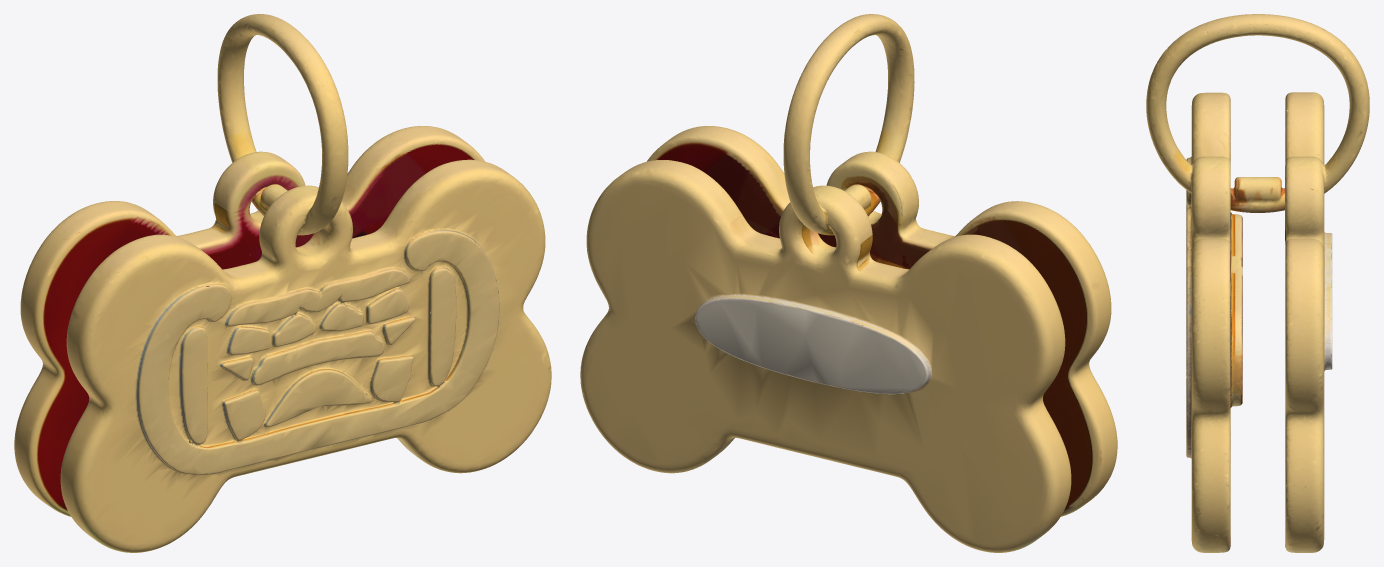
The model's file is raw.glb.
3 views of the same model, side by side, from view 1: azimuth 30°, elevation 25°; view 2: azimuth 150°, elevation 25°; view 3: azimuth 270°, elevation 25° (orthographic). The views are drawn at different scales.
Visible parts, largest first — view 1: Mesh_0; view 2: Mesh_0; view 3: Mesh_0.
Part boxes in pixels (box(x1,y1,x2,y2)): Mesh_0: box(14, 14, 551, 552); Mesh_0: box(580, 14, 1117, 552); Mesh_0: box(1146, 14, 1369, 552).
Size of the model in its own units: 1.91 by 1.78 by 0.7968.
Materials: 1 (1 with a texture image).
